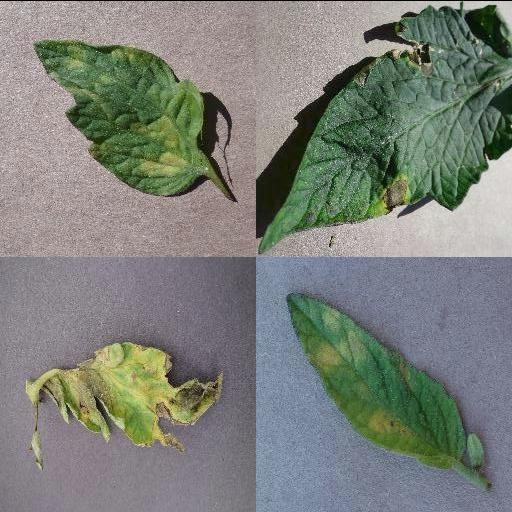Early Blight: (260, 1, 512, 251)
Late Blight: (25, 342, 227, 470)
Leaf Mold: (284, 292, 466, 468), (32, 39, 204, 194)
